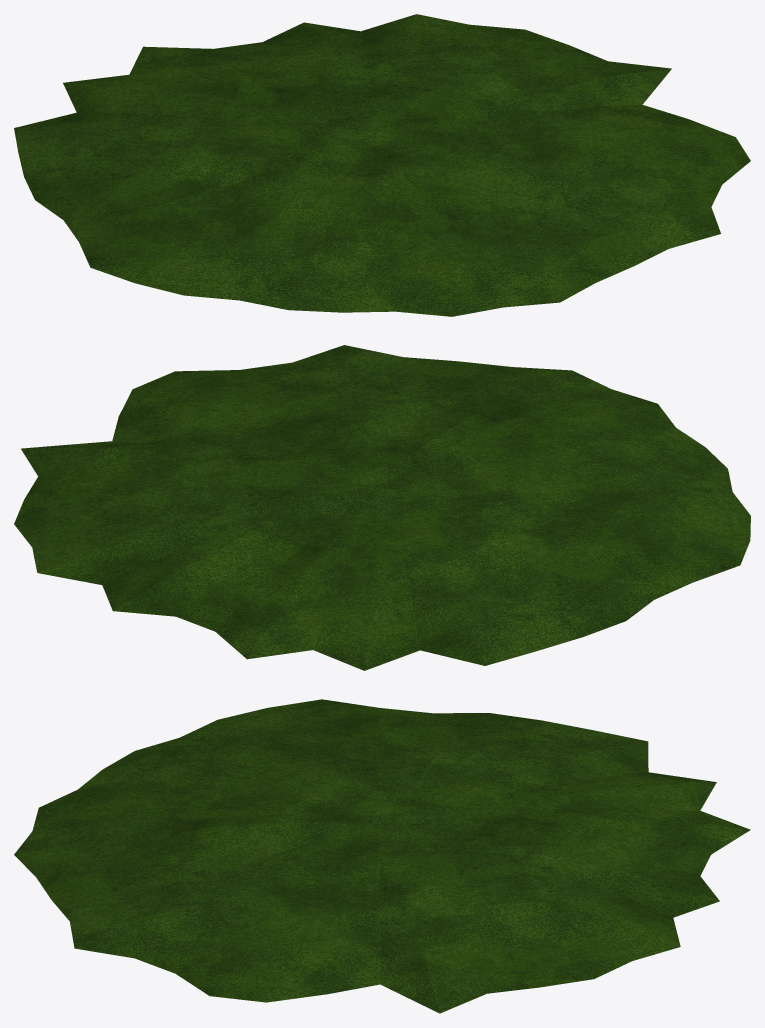
File: ground_moss_carpet_v02.glb
3 views of the same model, one above another, from view 1: azimuth 30°, elevation 25°; view 2: azimuth 150°, elevation 25°; view 3: azimuth 270°, elevation 25° (orthographic). The views are drawn at different scales.
Parts seen in each view (by area): view 1: ground_moss_carpet_v02; view 2: ground_moss_carpet_v02; view 3: ground_moss_carpet_v02.
Boxes of the visible parts, x1,y1,x2,y2 form: ground_moss_carpet_v02: [14, 14, 750, 316]; ground_moss_carpet_v02: [14, 345, 750, 670]; ground_moss_carpet_v02: [14, 699, 750, 1013].
Size of the model in its own units: 1.07 by 0.0523 by 1.06.
Materials: 1 (1 with a texture image).
